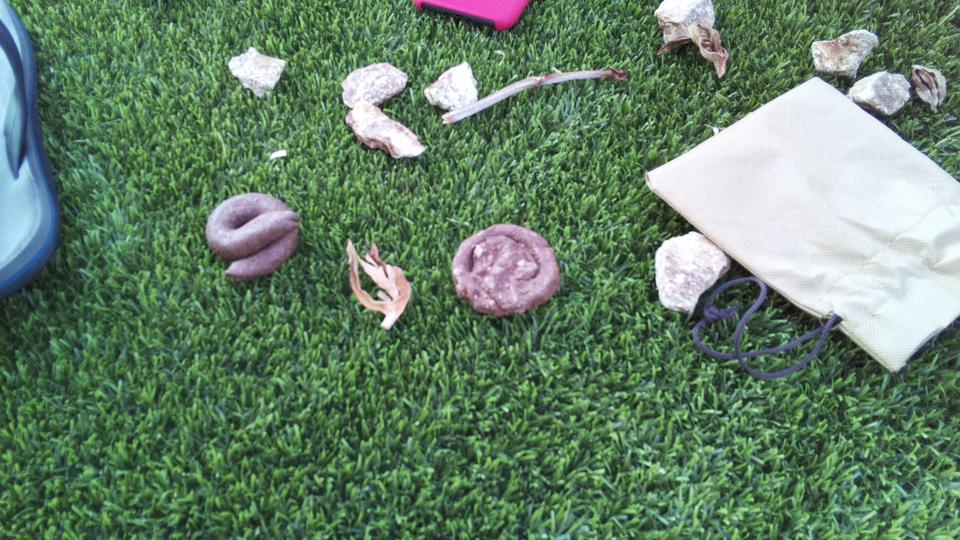poop: (449, 222, 564, 316), (200, 194, 307, 282)
